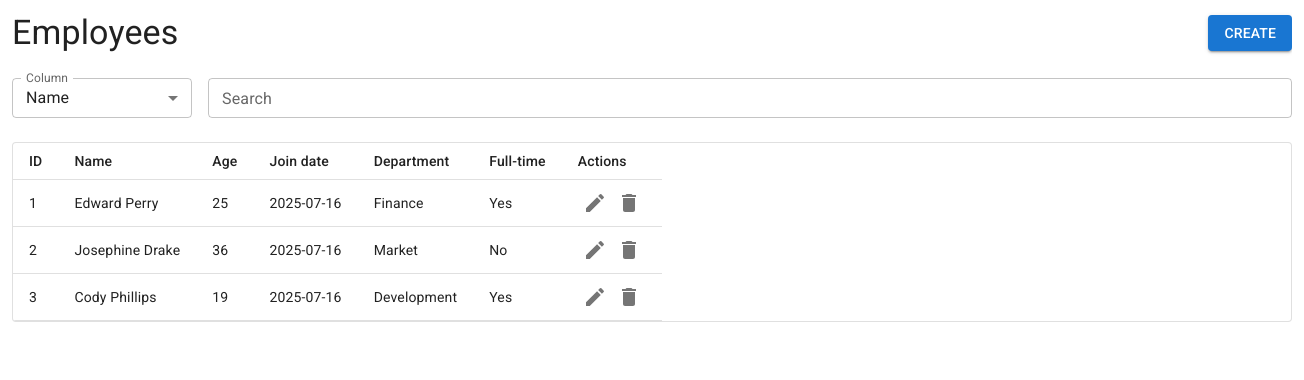
Test: EmployeeListPage › Column の選択肢は表示列と一致する
Expected: the cell "Edward Perry" is shown, [58, 180, 196, 226]
Click the dropdown named "Column": point(48, 98) [26, 88, 69, 108]
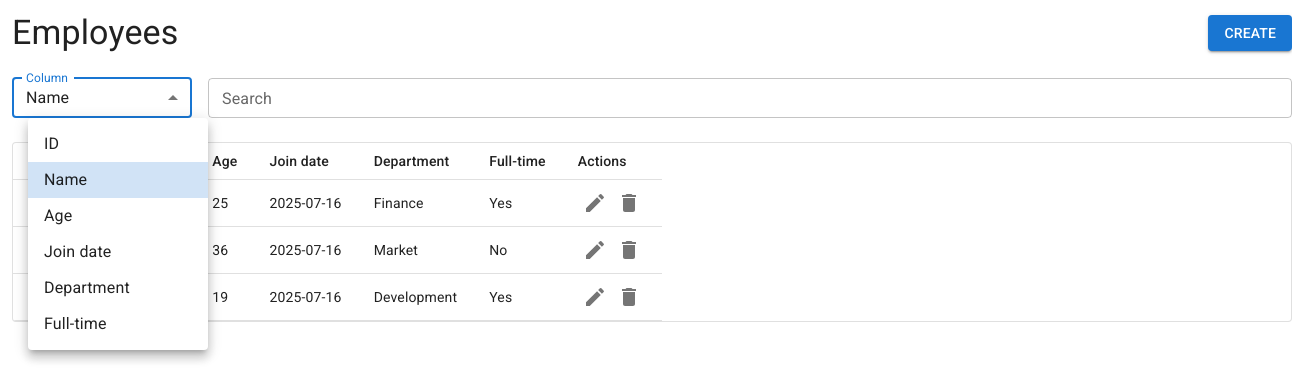
Result: the option "ID" is shown at [44, 134, 59, 153]
Result: the option "Name" is shown at [28, 162, 208, 198]
Result: the option "Age" is shown at [44, 206, 72, 225]
